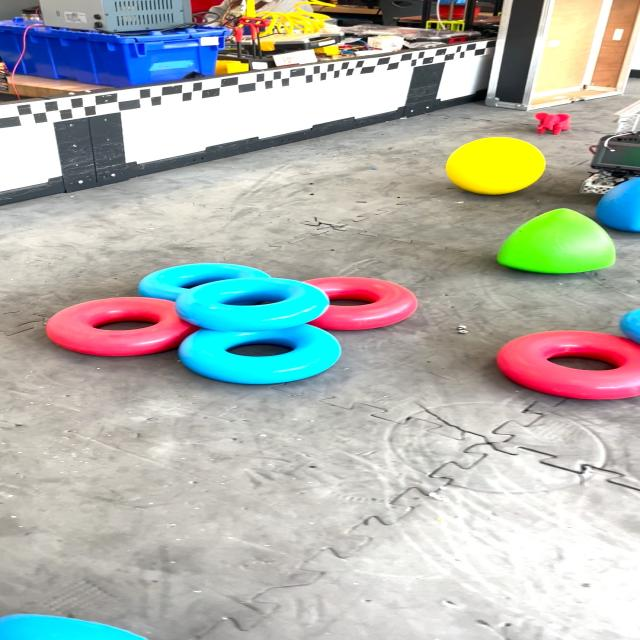Blue-Ring: (178, 324, 340, 384), (176, 278, 329, 331), (138, 262, 271, 301)
Red-Ring: (496, 331, 639, 399), (47, 298, 198, 356), (304, 276, 418, 330)
